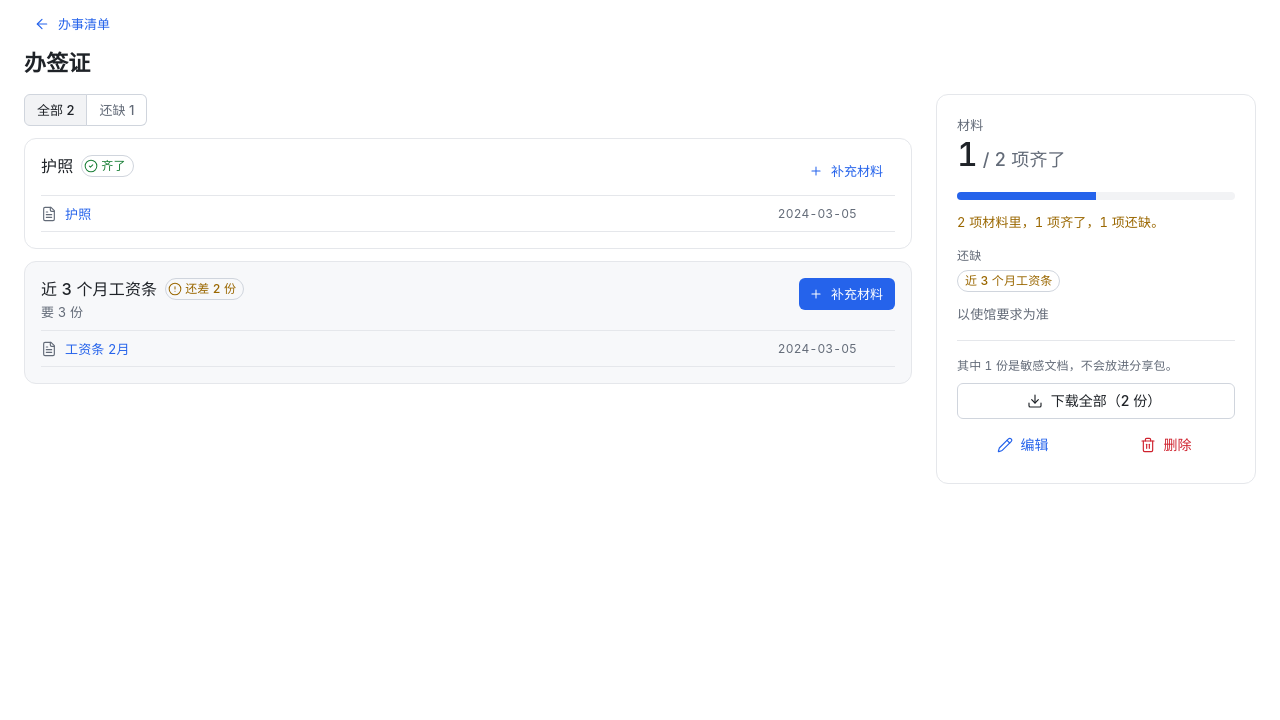
Test: 清单里有敏感文档时 › 分享包不放它；下载全部先确认密码
The image size is (1280, 720).
expect the text "其中 1 份是敏感文档，不会放进分享包。" is shown: met, box 957,358 -> 1178,373
Click the button "下载全部（2 份）" at (1096, 401), box 957,383 -> 1235,419
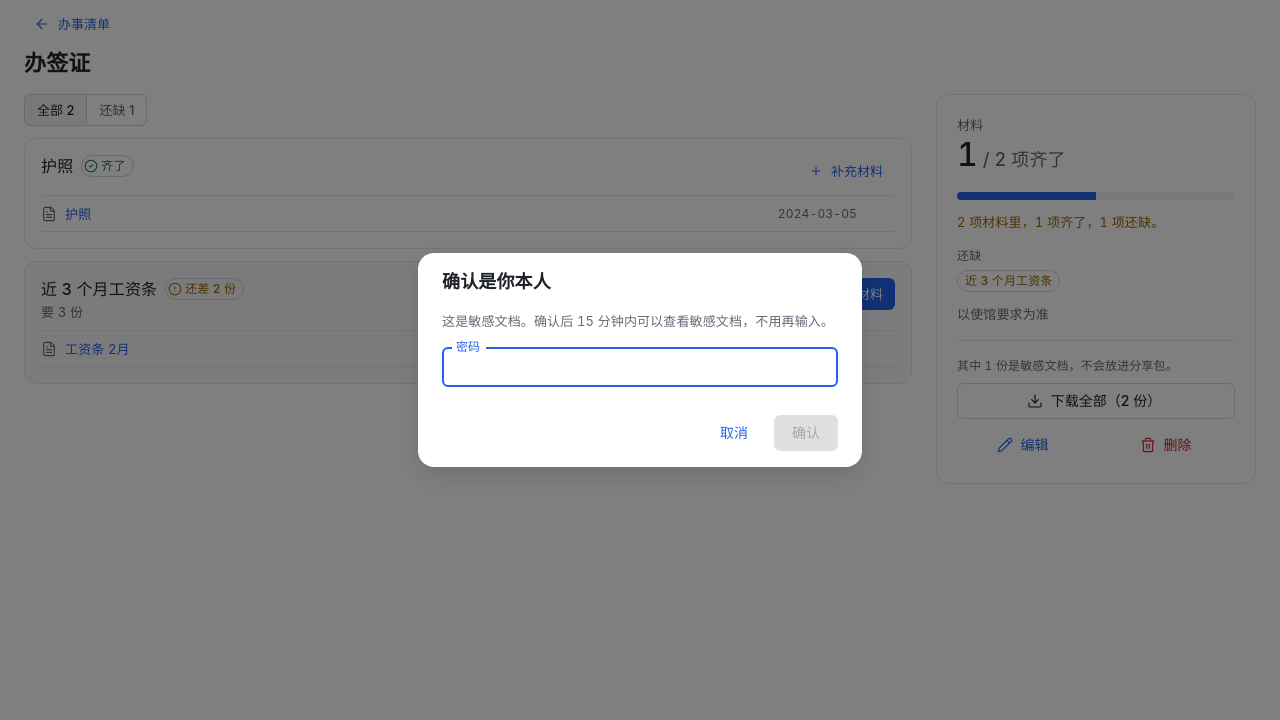
expect the dialog "确认是你本人" is shown: met, box 418,253 -> 862,467
